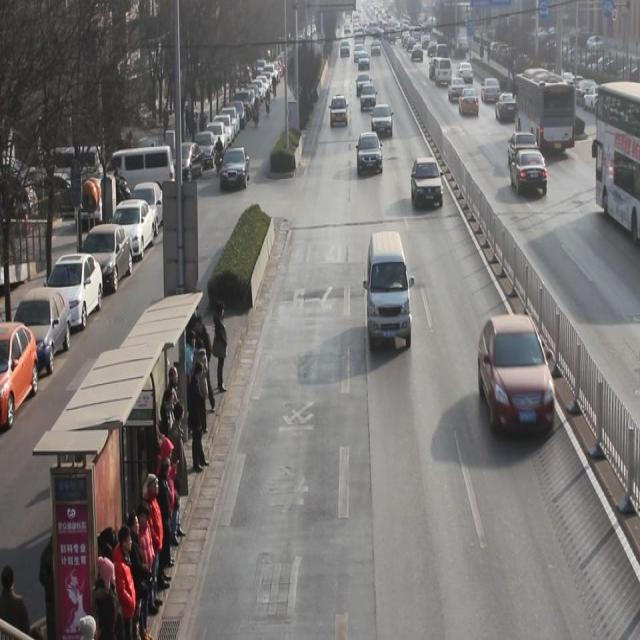car: (481, 313, 556, 437), (411, 154, 444, 212), (510, 149, 548, 197), (508, 130, 539, 171), (357, 130, 383, 176), (495, 92, 519, 123), (372, 104, 393, 139), (460, 86, 480, 117), (482, 76, 502, 105), (330, 94, 348, 126), (448, 76, 466, 104), (360, 83, 377, 111), (457, 61, 473, 87), (357, 73, 372, 98)
truck: (367, 230, 412, 350)
van: (593, 83, 640, 239), (514, 64, 573, 154)
